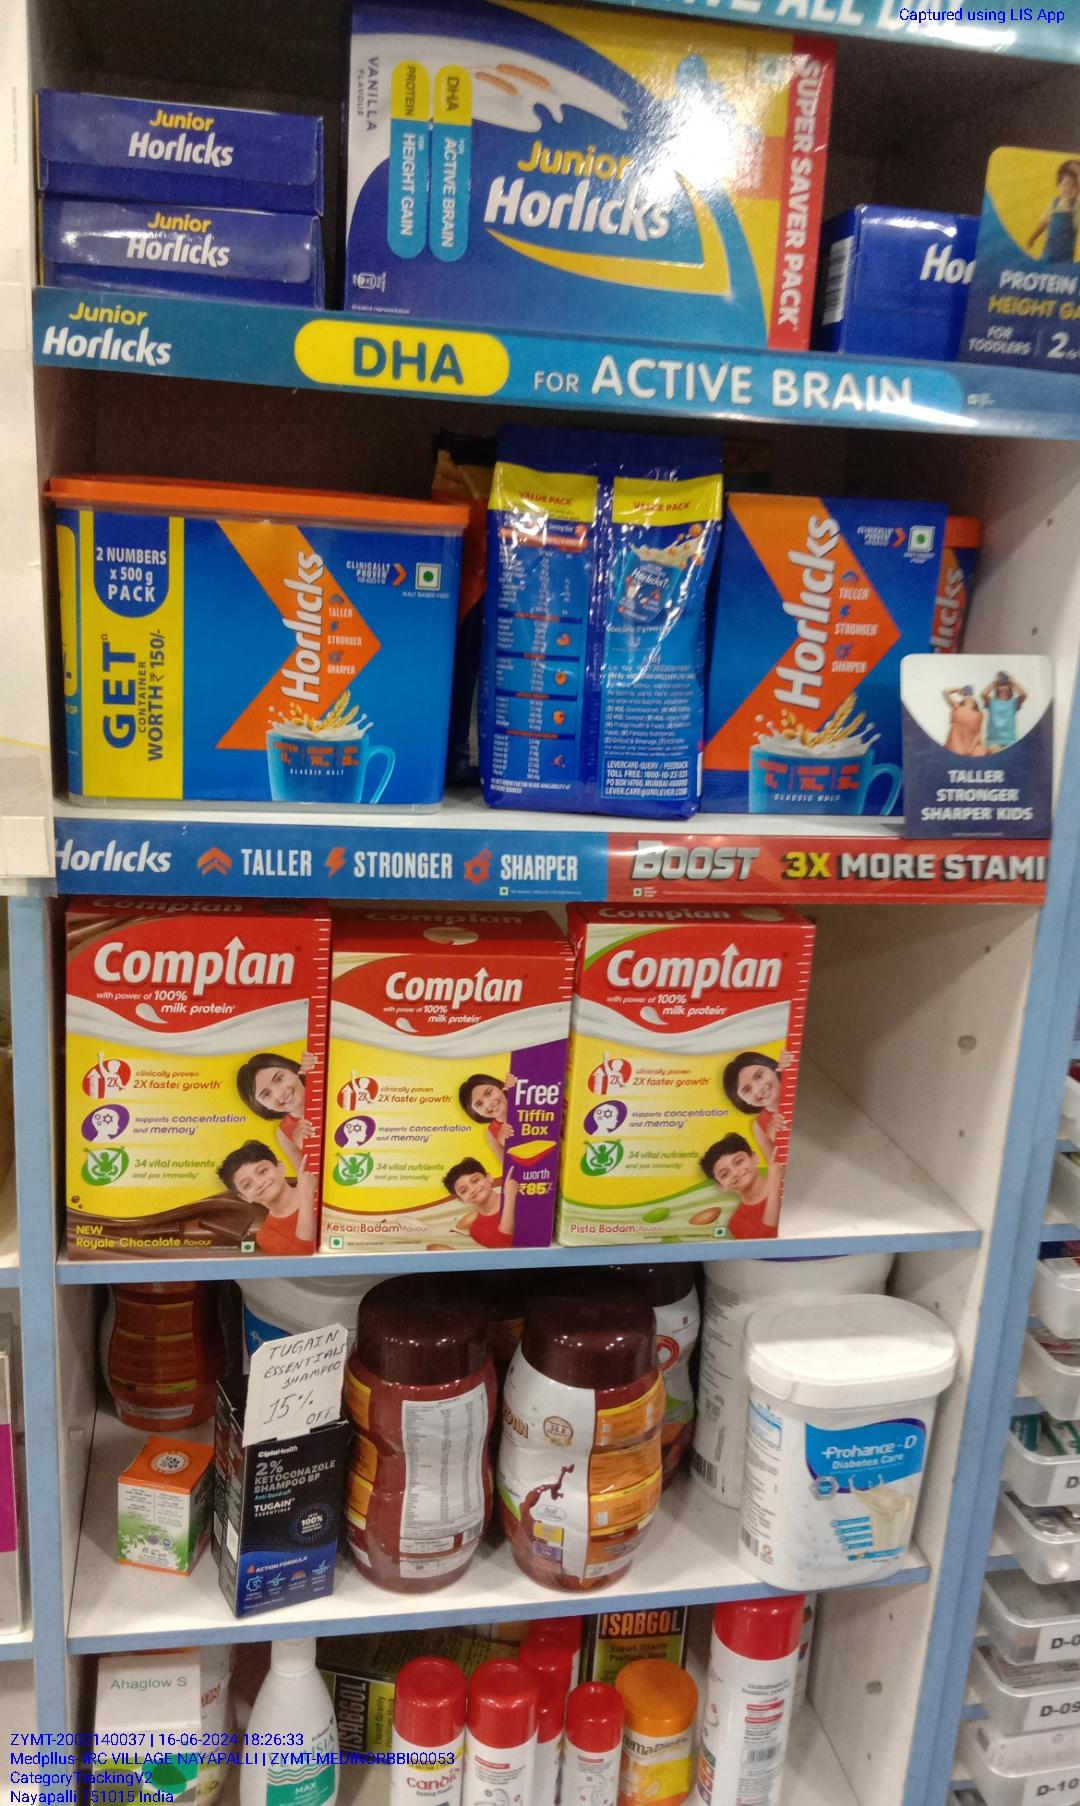COMPLAN_CHOCOLATE_500_GMS_PACK: (68, 913, 320, 1252)
COMPLAN_KESAR_BADAM_500_GMS_PACK: (333, 951, 554, 1249)
COMPLAN_PISTA_BADAM_500_GMS_PACK: (577, 922, 783, 1233)
HORLICK_CLASSIC_MALT_500_G_PACK: (717, 488, 904, 820)
